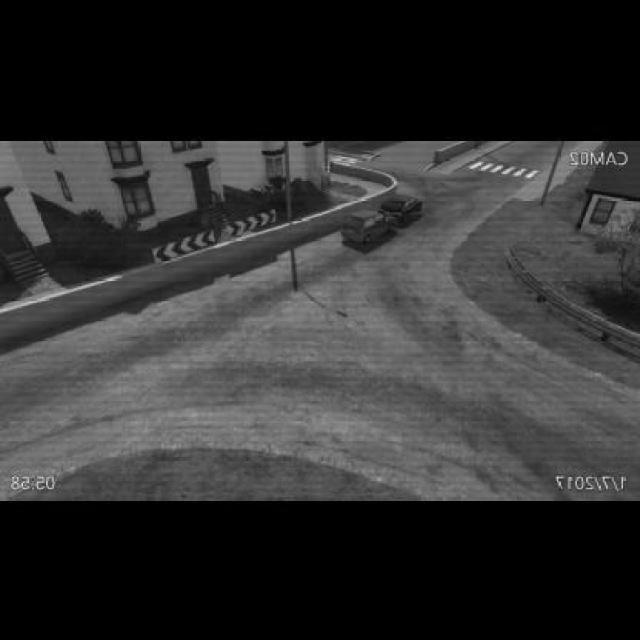accident: (338, 185, 425, 253)
